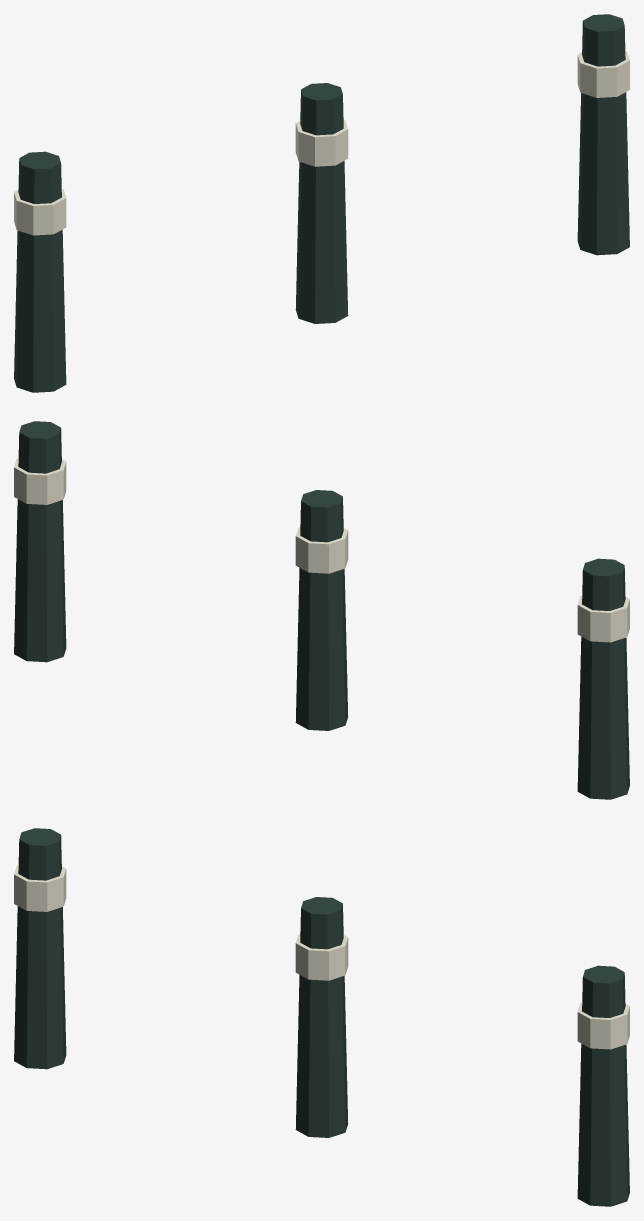
Rendered from BollardGroup.obj.
3 views of the same model, one above another, from view 1: azimuth 30°, elevation 25°; view 2: azimuth 150°, elevation 25°; view 3: azimuth 330°, elevation 25° (orthographic).
Visible parts, largest first — view 1: BollardGroup; view 2: BollardGroup; view 3: BollardGroup.
Part boxes in pixels (left/top/right/bottom): BollardGroup: left=14, top=14, right=629, bottom=392; BollardGroup: left=14, top=421, right=629, bottom=799; BollardGroup: left=14, top=828, right=629, bottom=1206.
Size of the model in its own units: 2.6 by 0.9 by 0.2.
Materials: 1 (1 with a texture image).
